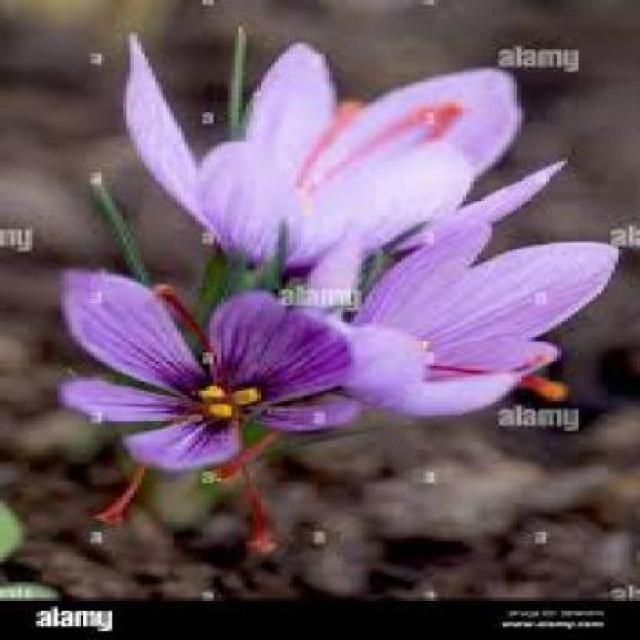saffron open: (126, 35, 520, 281), (61, 271, 359, 469), (346, 221, 618, 415)
